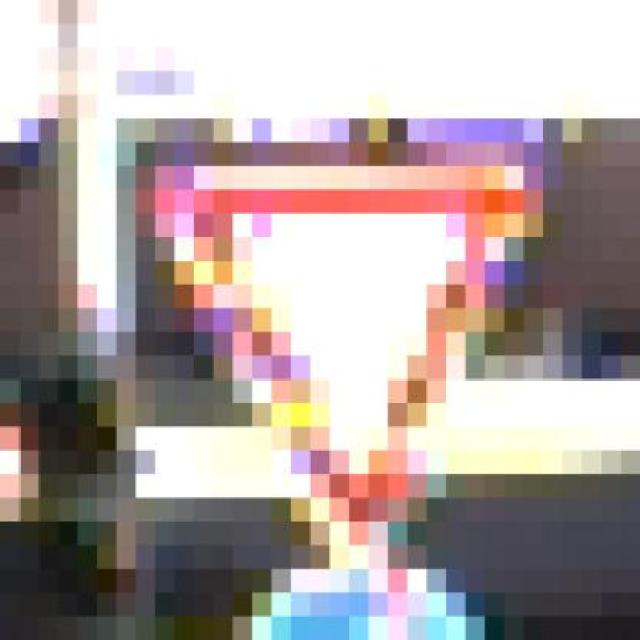Give Way: (155, 118, 562, 570)
